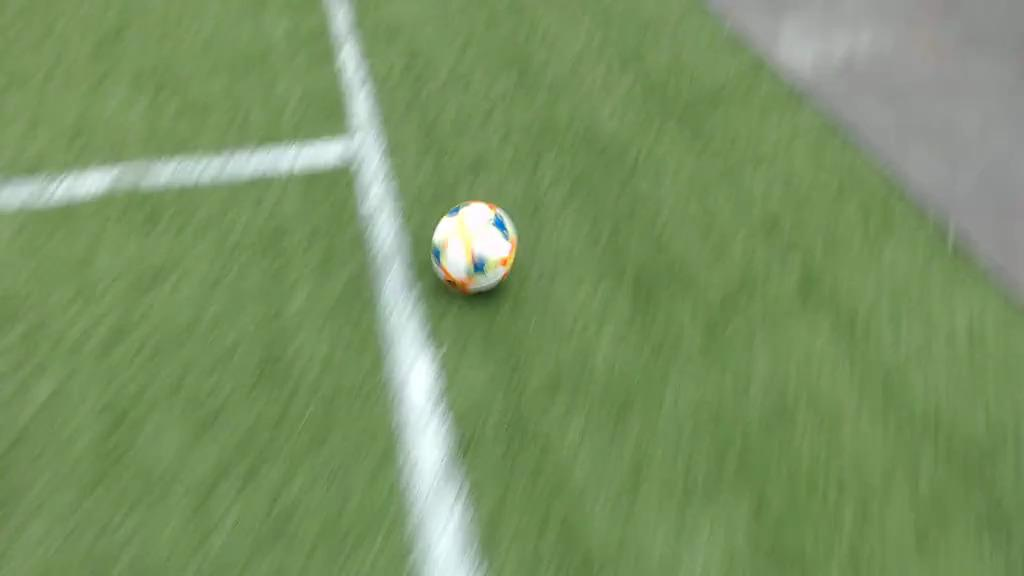ball: (433, 201, 513, 293)
